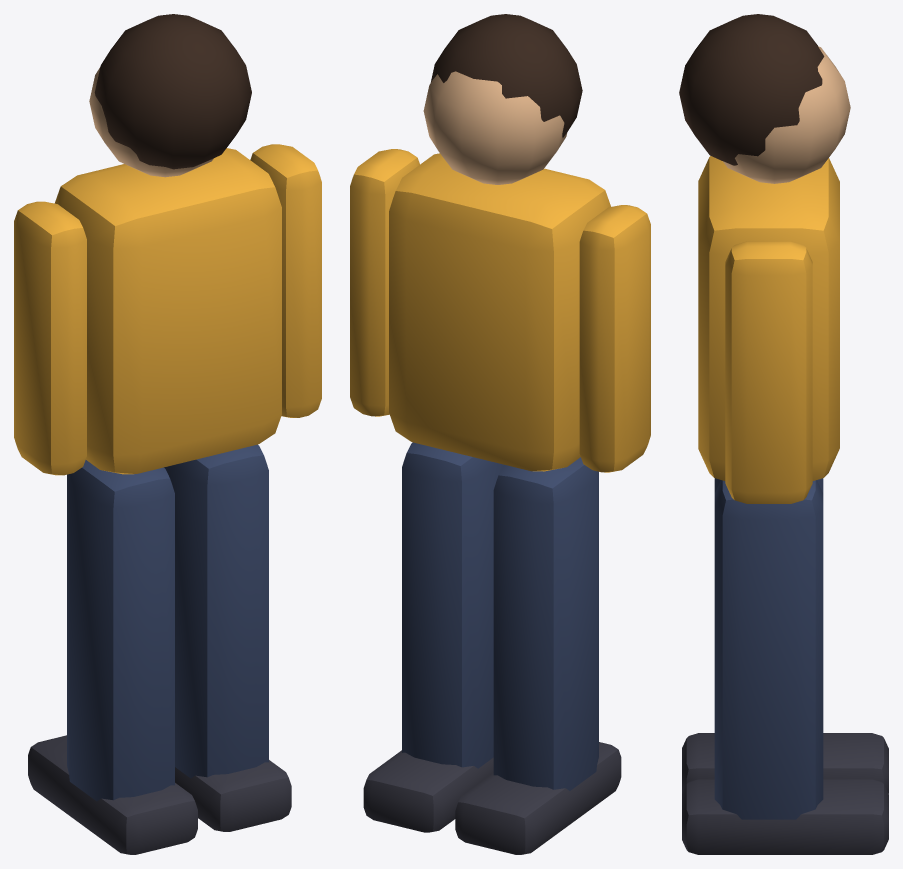
The model's file is person.glb.
3 views of the same model, side by side, from view 1: azimuth 30°, elevation 25°; view 2: azimuth 150°, elevation 25°; view 3: azimuth 270°, elevation 25° (orthographic). The views are drawn at different scales.
Parts seen in each view (by area): view 1: body; view 2: body; view 3: body.
Boxes of the visible parts, left/top/right/bottom form: body: left=14, top=14, right=321, bottom=854; body: left=350, top=14, right=650, bottom=854; body: left=679, top=14, right=888, bottom=854.
Size of the model in its own units: 0.6 by 1.62 by 0.385.
